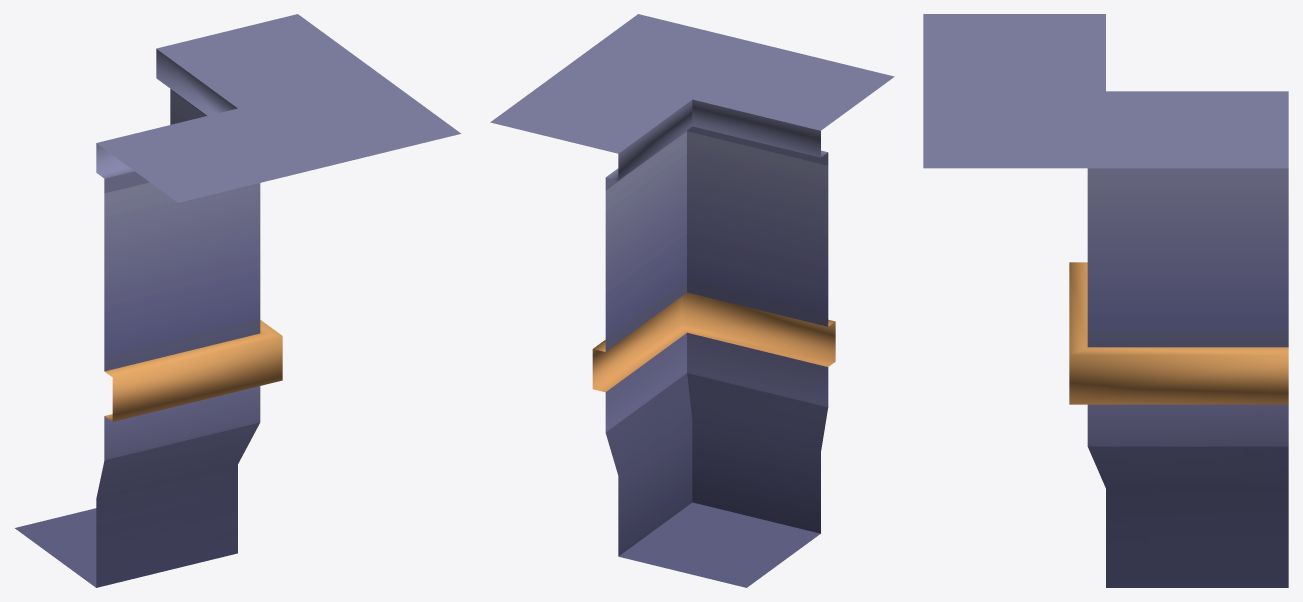
Rendered from structure-corner-inner.glb.
3 renders of one model, left to right at view 1: azimuth 30°, elevation 25°; view 2: azimuth 150°, elevation 25°; view 3: azimuth 270°, elevation 25°, orthographic. The views are drawn at different scales.
Visible parts, largest first — view 1: structure-corner-inner; view 2: structure-corner-inner; view 3: structure-corner-inner.
Part boxes in pixels (box(x1,y1,x2,y2)): structure-corner-inner: box(15, 14, 460, 587); structure-corner-inner: box(490, 14, 894, 587); structure-corner-inner: box(923, 14, 1288, 587).
Size of the model in its own units: 2 by 3 by 2.
Materials: 1 (1 with a texture image).
